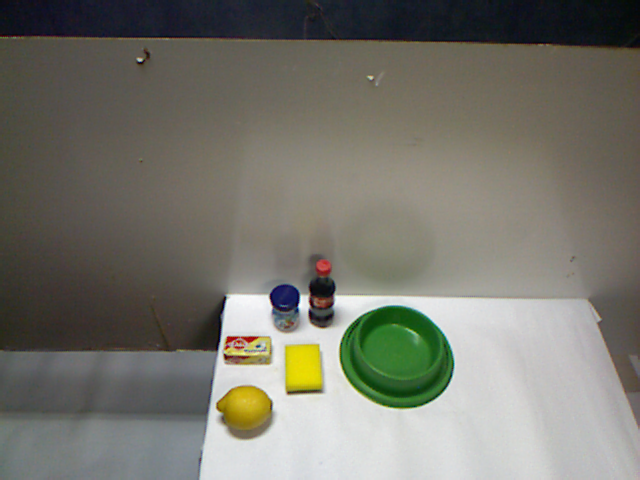balsamo: (246, 249, 292, 339)
cubix: (333, 346, 375, 395)
jabon: (229, 343, 268, 392)
papas: (304, 239, 360, 352)
pelota: (272, 335, 310, 376)
yogurt: (367, 243, 423, 355)
